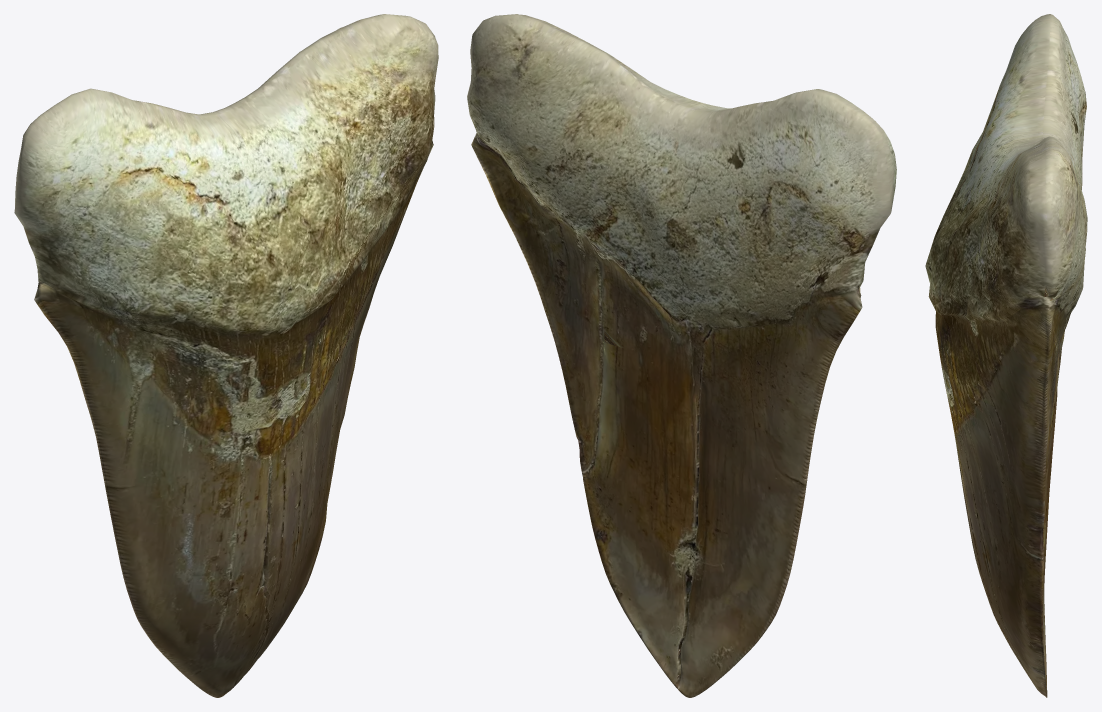
Rendered from megalodon-tooth.glb.
3 renders of one model, left to right at view 1: azimuth 30°, elevation 25°; view 2: azimuth 150°, elevation 25°; view 3: azimuth 270°, elevation 25°, orthographic. The views are drawn at different scales.
Visible parts, largest first — view 1: megalodon_teeth_fossil_Material.001_0; view 2: megalodon_teeth_fossil_Material.001_0; view 3: megalodon_teeth_fossil_Material.001_0.
Part boxes in pixels (x1,y1,x2,y2): megalodon_teeth_fossil_Material.001_0: (14,14,438,697); megalodon_teeth_fossil_Material.001_0: (467,14,896,697); megalodon_teeth_fossil_Material.001_0: (925,14,1087,697).
Bounding box in the file's own units: 0.1178 × 0.1712 × 0.0408.
Materials: 1 (1 with a texture image).
